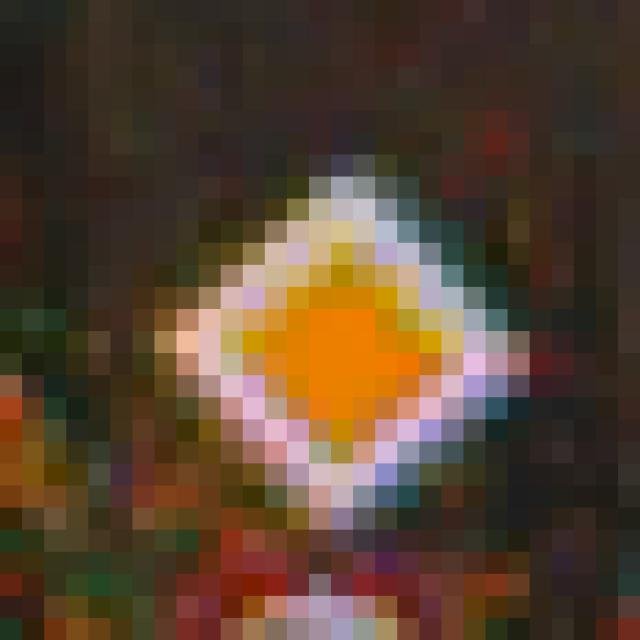Main Road: (134, 111, 531, 531)
